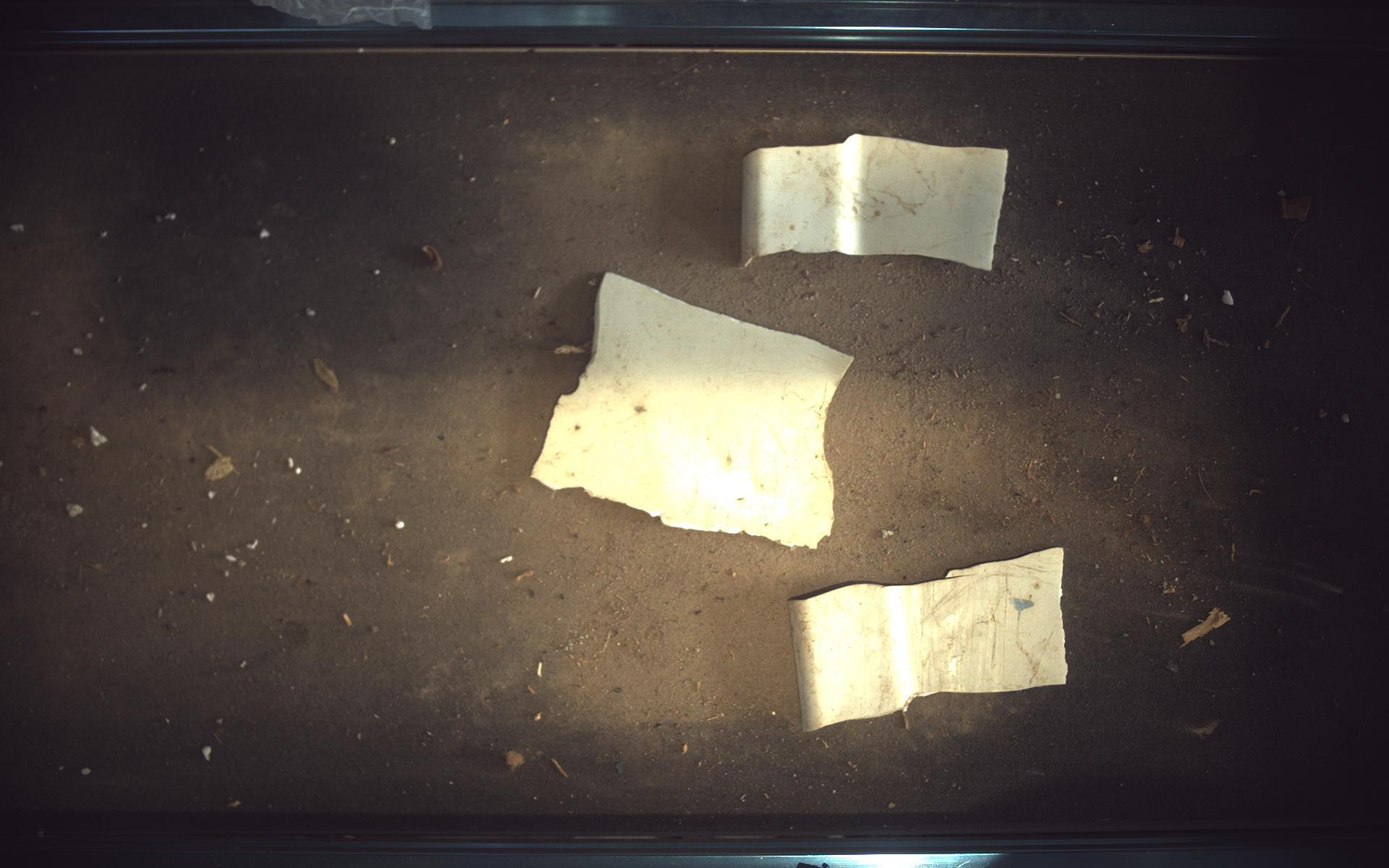plastic: (532, 273, 854, 548), (790, 548, 1070, 732), (743, 133, 1010, 269)
